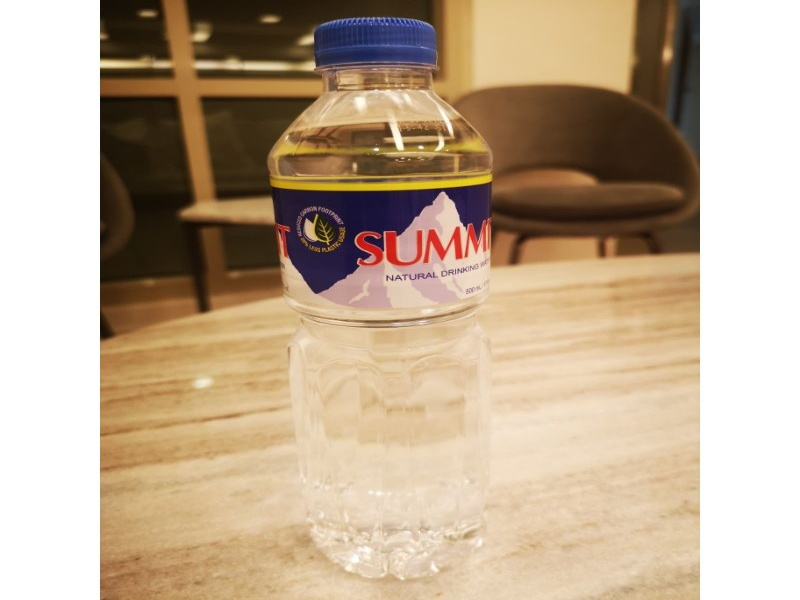PET #1: (262, 12, 498, 584)
